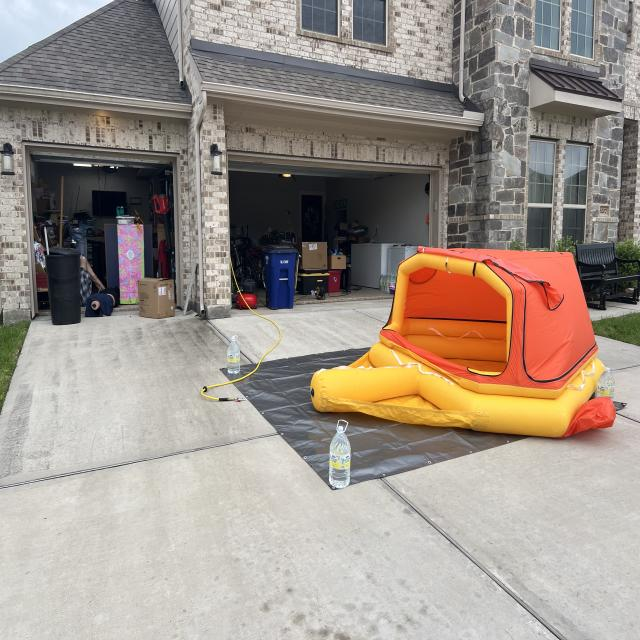Multi-person_life_raft: (311, 246, 617, 438)
